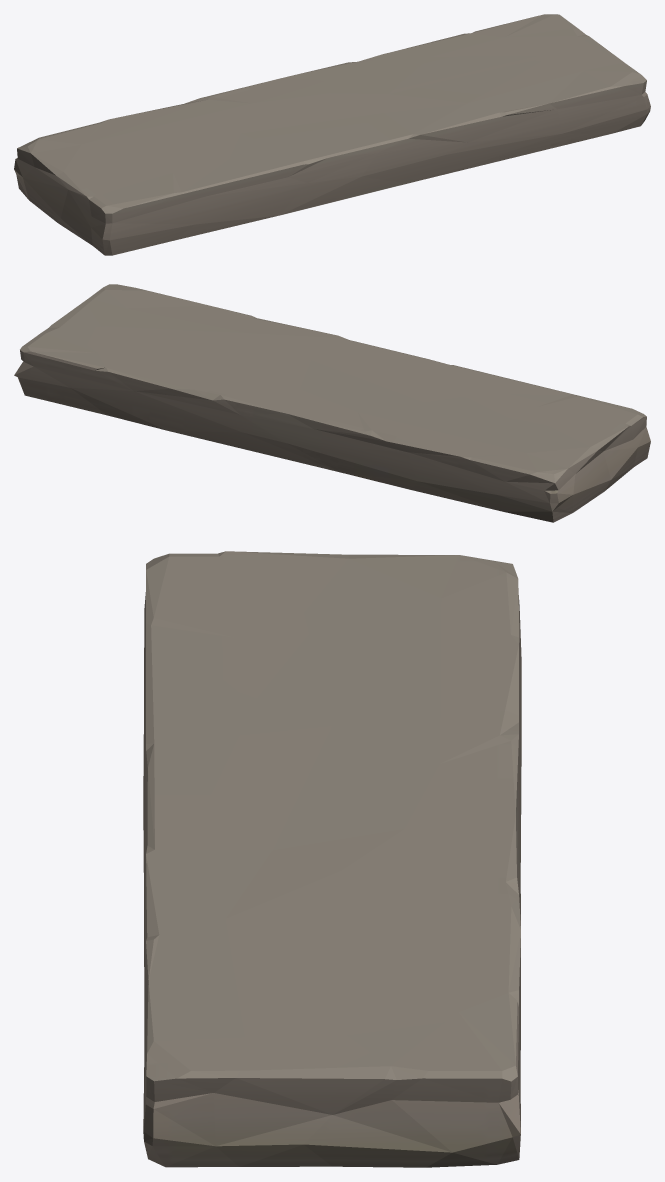
The model's file is border_stone.glb.
3 renders of one model, top to bottom at view 1: azimuth 30°, elevation 25°; view 2: azimuth 150°, elevation 25°; view 3: azimuth 270°, elevation 25°, orthographic. The views are drawn at different scales.
Parts seen in each view (by area): view 1: border_stone; view 2: border_stone; view 3: border_stone.
Boxes of the visible parts, x1,y1,x2,y2 form: border_stone: [14, 14, 650, 255]; border_stone: [14, 284, 650, 522]; border_stone: [143, 551, 521, 1167].
Size of the model in its own units: 1 by 0.08 by 0.3.
1 material, 1 textured.
